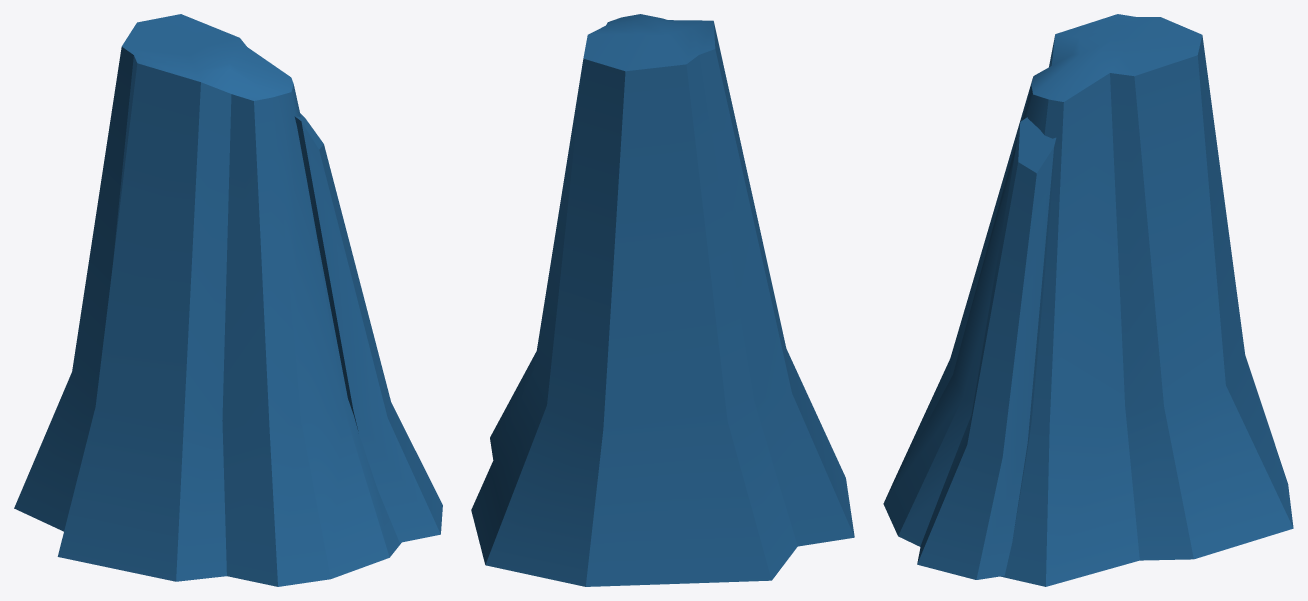
File: mdl_iceCliff02_2.fbx
3 renders of one model, left to right at view 1: azimuth 30°, elevation 25°; view 2: azimuth 150°, elevation 25°; view 3: azimuth 270°, elevation 25°, orthographic. The views are drawn at different scales.
Parts seen in each view (by area): view 1: mdl_iceCliff02_3; view 2: mdl_iceCliff02_3; view 3: mdl_iceCliff02_3.
Part boxes in pixels (x1=…): mdl_iceCliff02_3: x1=14, y1=14, x2=442, y2=586; mdl_iceCliff02_3: x1=471, y1=14, x2=854, y2=586; mdl_iceCliff02_3: x1=883, y1=14, x2=1293, y2=586.
Bounding box in the file's own units: 265 × 324 × 267.
Materials: 1 (1 with a texture image).
